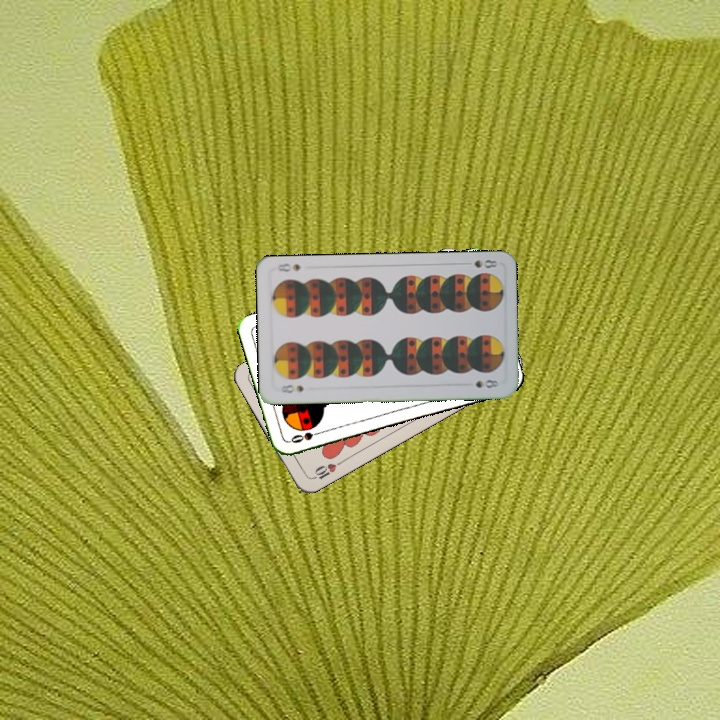H10: (307, 457, 345, 482)
S8: (459, 255, 500, 271), (276, 380, 306, 396)
SO: (286, 427, 326, 446)
